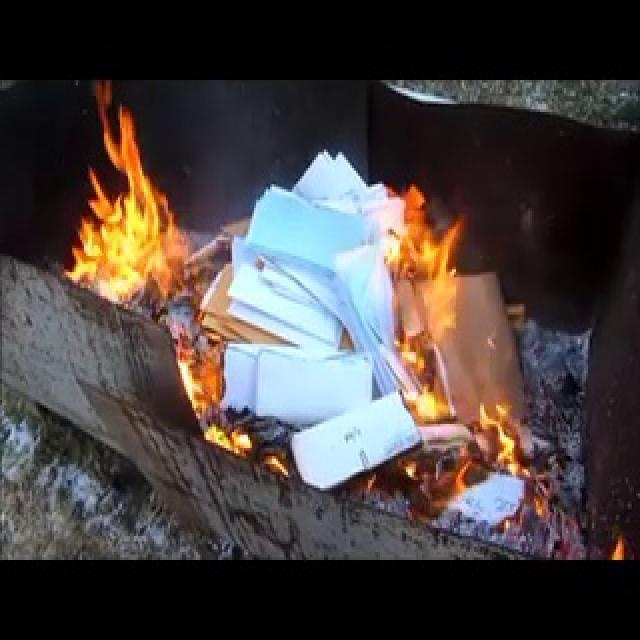fire: (378, 193, 502, 476), (50, 130, 214, 338)
